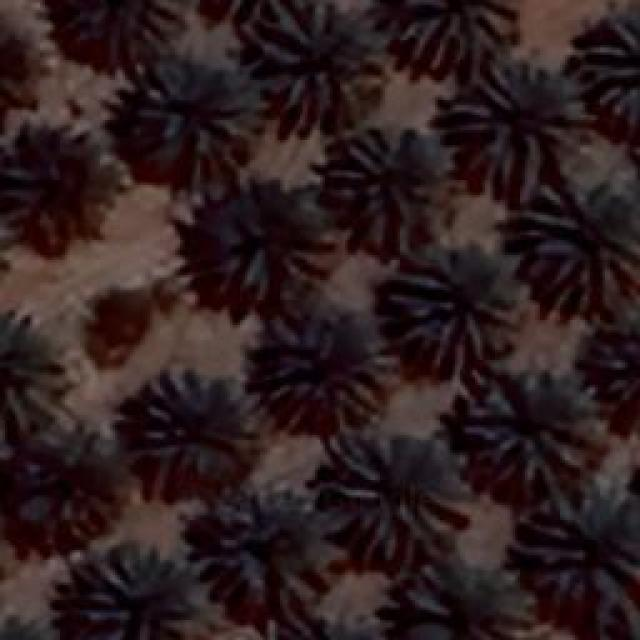PalmTree: (124, 29, 462, 604), (132, 73, 336, 625), (380, 235, 522, 378), (320, 435, 470, 563), (245, 310, 393, 430), (520, 170, 638, 315), (197, 188, 335, 310), (252, 0, 386, 125), (460, 370, 602, 485), (444, 62, 578, 182), (130, 370, 260, 485), (135, 50, 263, 165), (518, 475, 638, 595), (0, 136, 122, 253), (205, 488, 320, 612), (324, 140, 446, 248), (80, 542, 190, 638), (21, 442, 124, 542), (400, 0, 520, 78), (0, 312, 60, 430), (48, 0, 184, 48), (580, 10, 635, 125), (595, 316, 640, 432), (0, 17, 34, 126), (201, 0, 314, 18), (0, 612, 68, 640), (592, 601, 640, 640)
